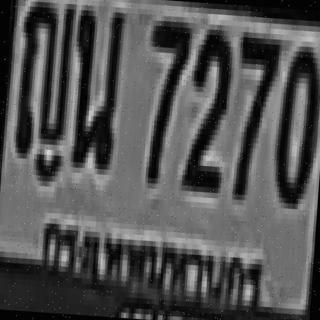A13: (13, 0, 76, 156)
A25: (67, 2, 124, 167)
N00: (271, 39, 320, 204)
N02: (182, 23, 232, 188)
N07: (229, 27, 279, 196), (141, 15, 191, 180)
P04: (35, 205, 269, 320)
